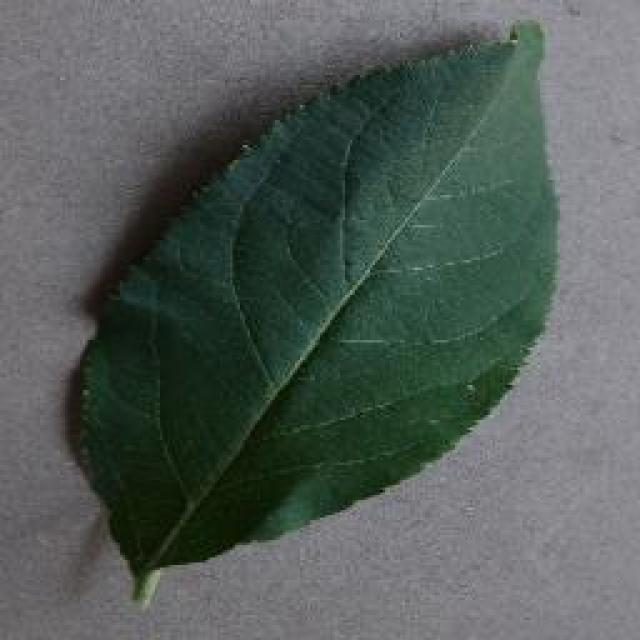apple healthy: (68, 15, 562, 605)
